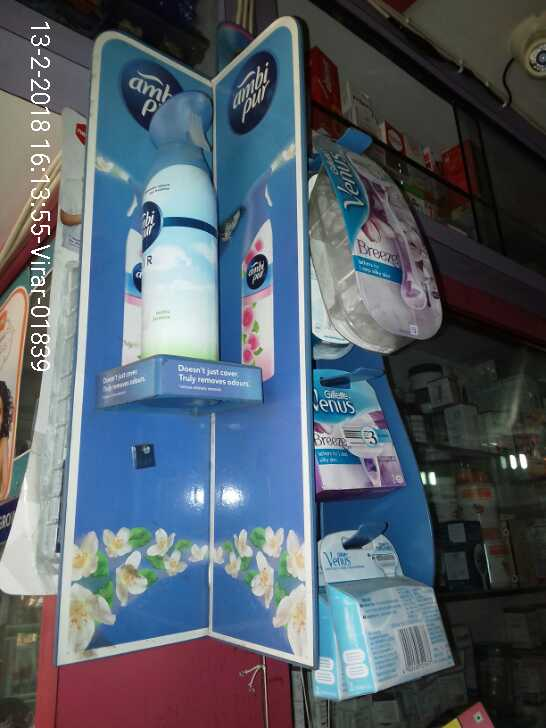home: (117, 78, 231, 369)
venus: (317, 133, 446, 360), (312, 369, 400, 492)
